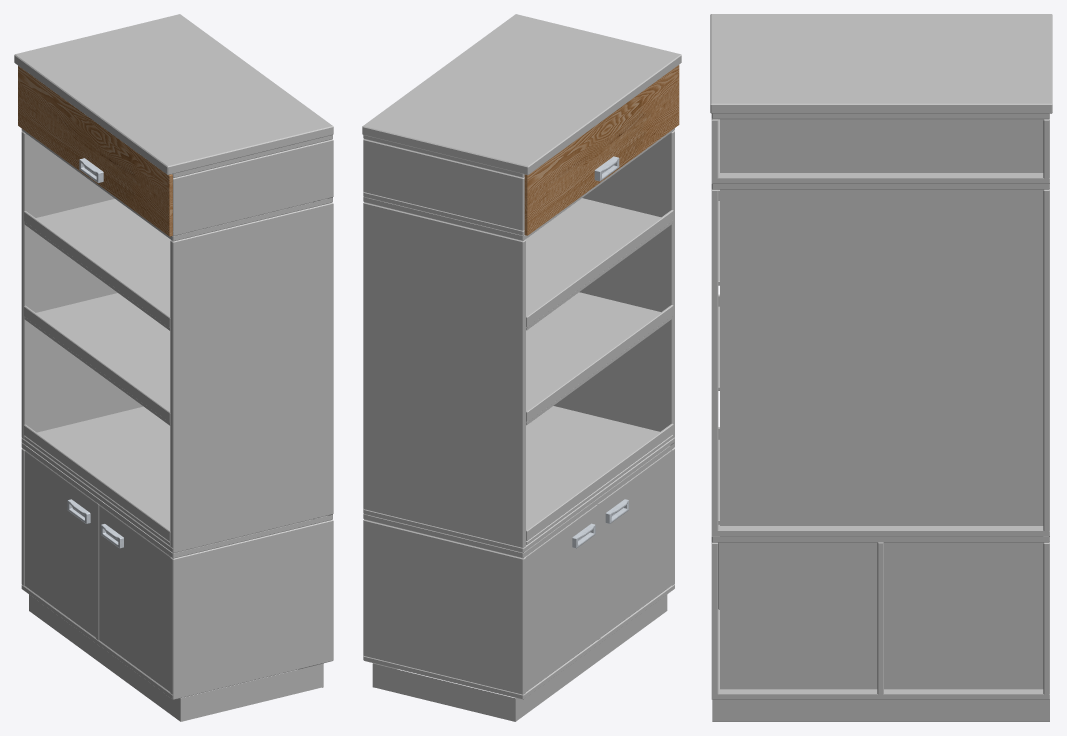
File: SM_Cabinet.fbx
3 renders of one model, left to right at view 1: azimuth 30°, elevation 25°; view 2: azimuth 150°, elevation 25°; view 3: azimuth 270°, elevation 25°, orthographic. The views are drawn at different scales.
Parts seen in each view (by area): view 1: SM_Cabinet_LOD0; view 2: SM_Cabinet_LOD0; view 3: SM_Cabinet_LOD0.
Part boxes in pixels (box(x1,y1,x2,y2)): SM_Cabinet_LOD0: box(14, 14, 333, 721); SM_Cabinet_LOD0: box(362, 14, 681, 721); SM_Cabinet_LOD0: box(710, 14, 1052, 721).
Bounding box in the file's own units: 85.39 × 133 × 267.
